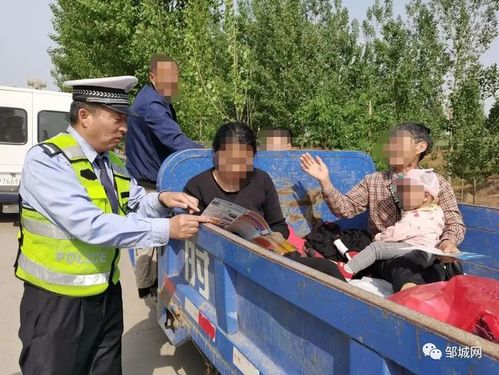overloading: (137, 54, 499, 375)
passenger: (328, 172, 460, 293), (178, 117, 257, 287), (129, 54, 199, 222), (300, 125, 481, 174), (256, 109, 299, 157)
